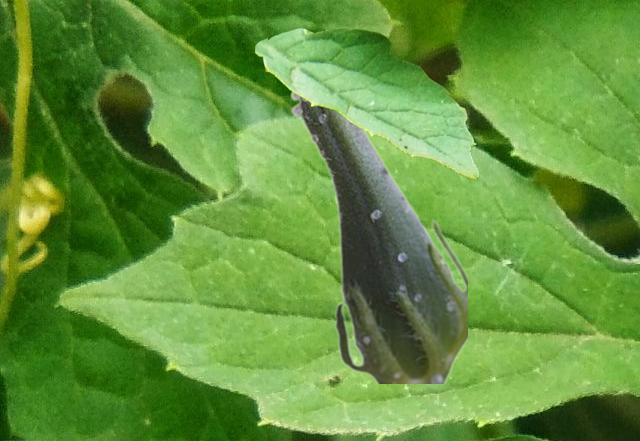okra: (289, 91, 466, 382)
